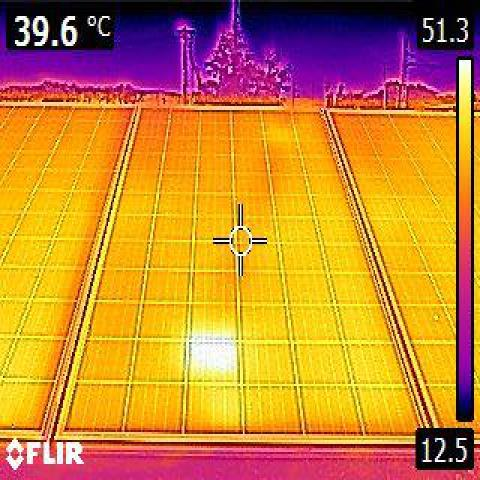fault: (194, 335, 238, 384)
